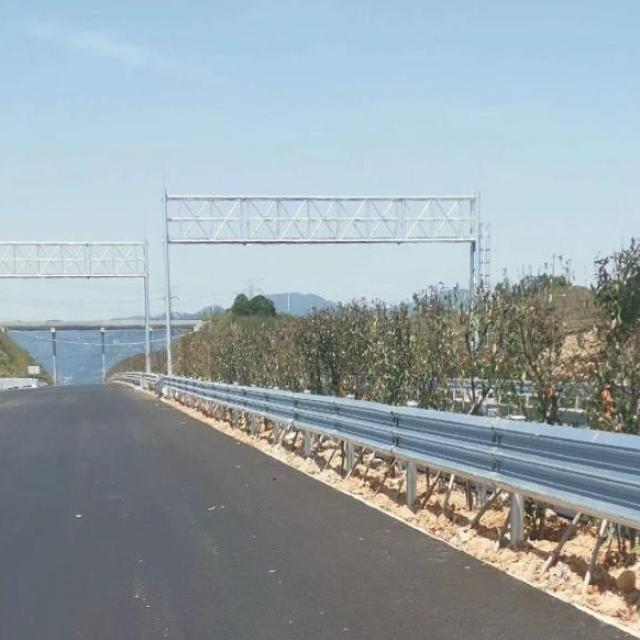Guard rail: (120, 372, 640, 528)
